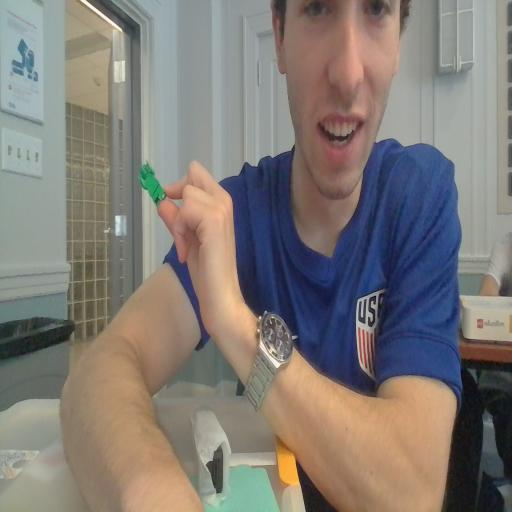green LEGO minifig: (136, 159, 168, 207)
